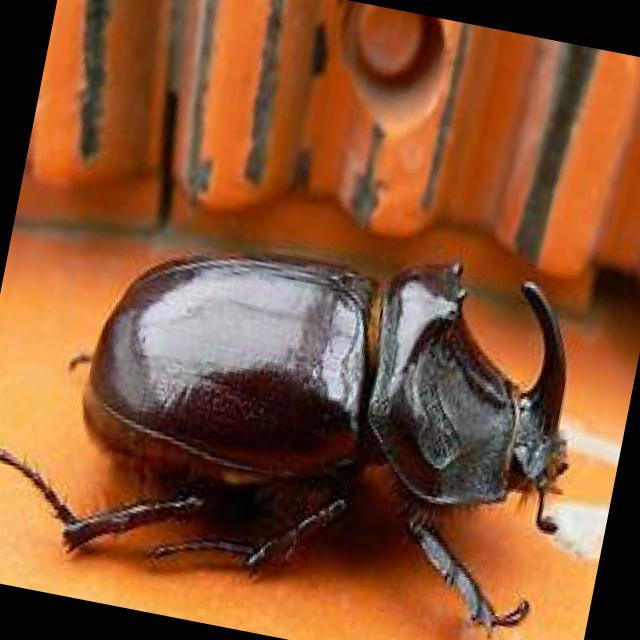Rhino-beetle: (69, 232, 596, 602)
